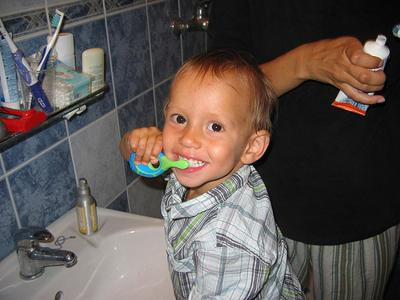person: (122, 54, 306, 299)
